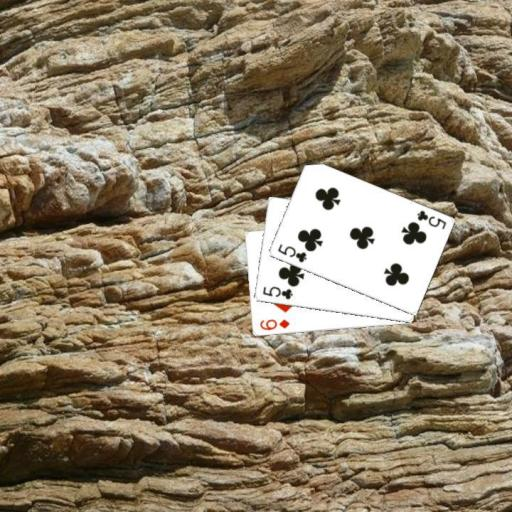5C: (274, 241, 308, 265), (413, 207, 447, 230), (259, 284, 294, 301)
6D: (257, 317, 291, 332)
